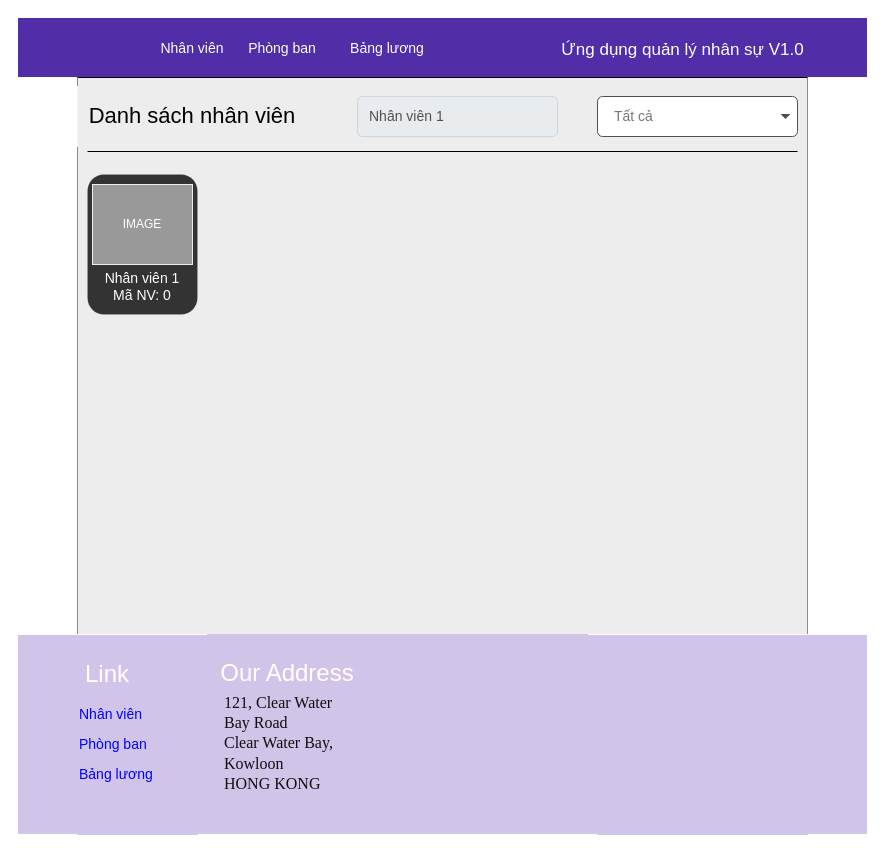
Some shapes in this 885 by 852 pixel diagram are drawn without their labels. Each missing label, with the centre of its shape:
"LOGO" belongs at (442,47).
"Social - Icon" belongs at (702,734).
